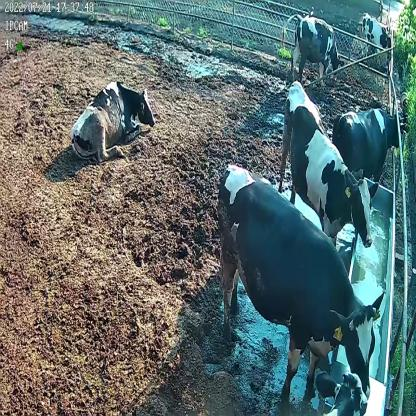cow: (217, 160, 384, 402), (277, 81, 380, 251), (68, 76, 154, 159), (330, 108, 406, 183), (279, 12, 339, 89)
